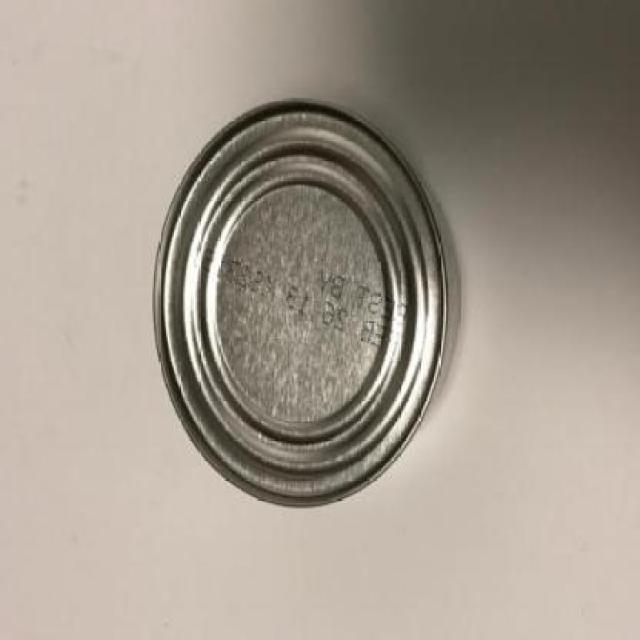METAL: (151, 102, 446, 510)
